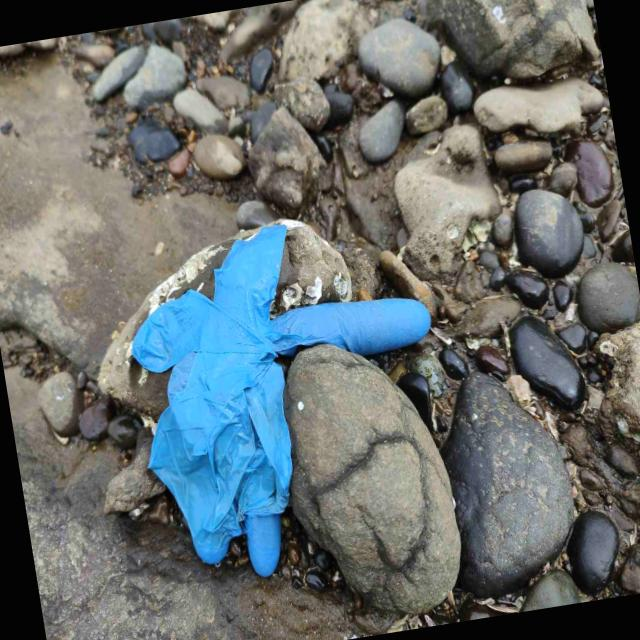nhua: (131, 223, 430, 577)
